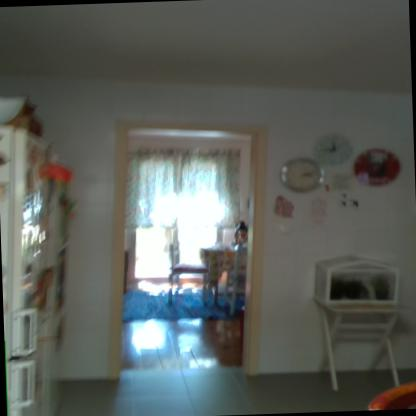open: (99, 110, 286, 386)
